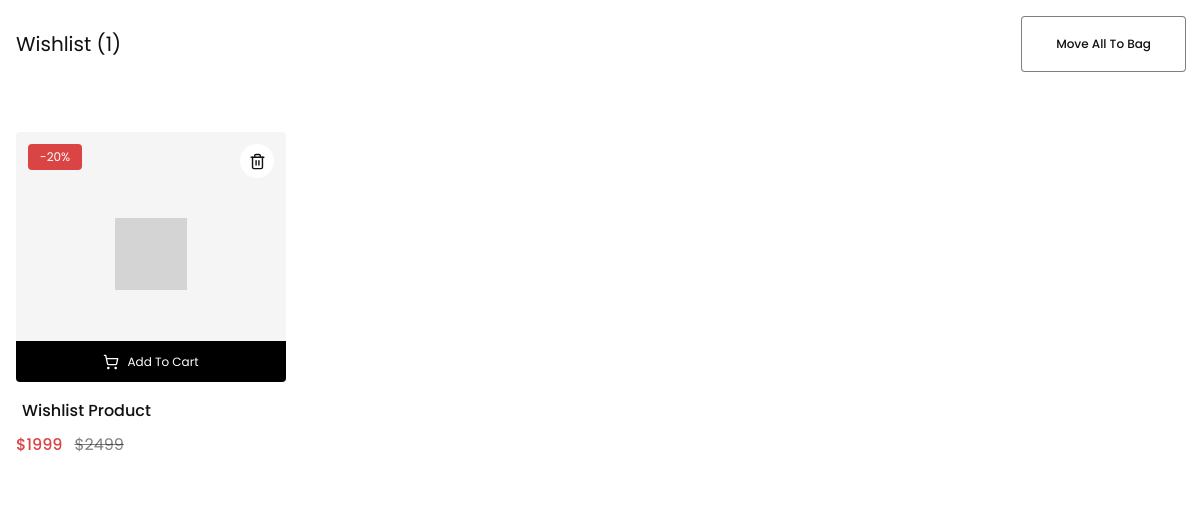
Scenario: WishlistPage › shows an action error when moving to cart fails
Expected: the button "Wishlist Product" is shown, [16, 398, 157, 424]
Click the button with aria-label "Move to cart" at (151, 362), box [16, 341, 286, 382]
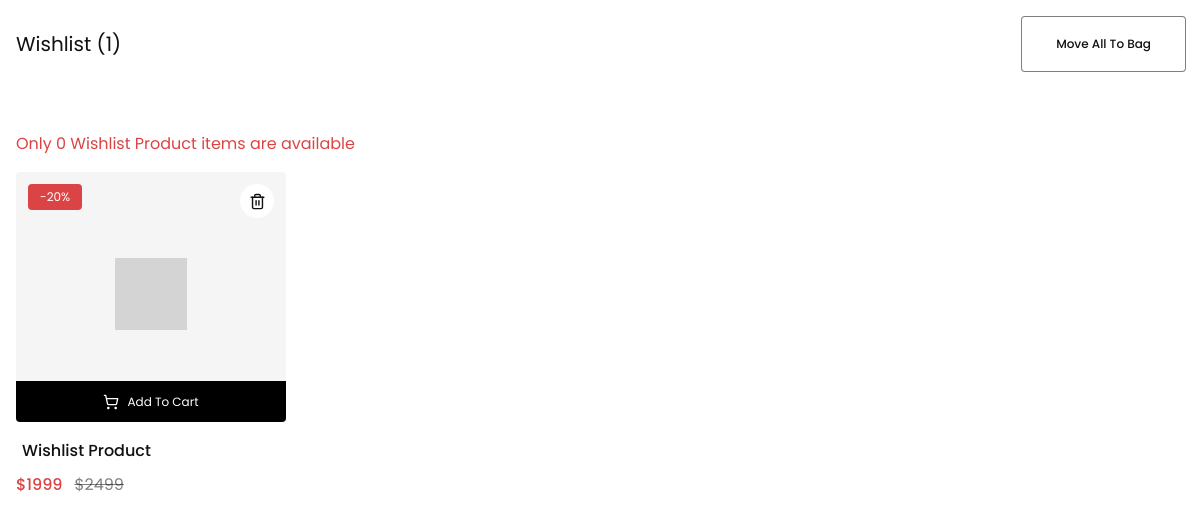
Expected: the button "Wishlist Product" is shown, [16, 438, 157, 464]
Result: the text "Only 0 Wishlist Product items are available" is shown at [16, 132, 355, 155]
